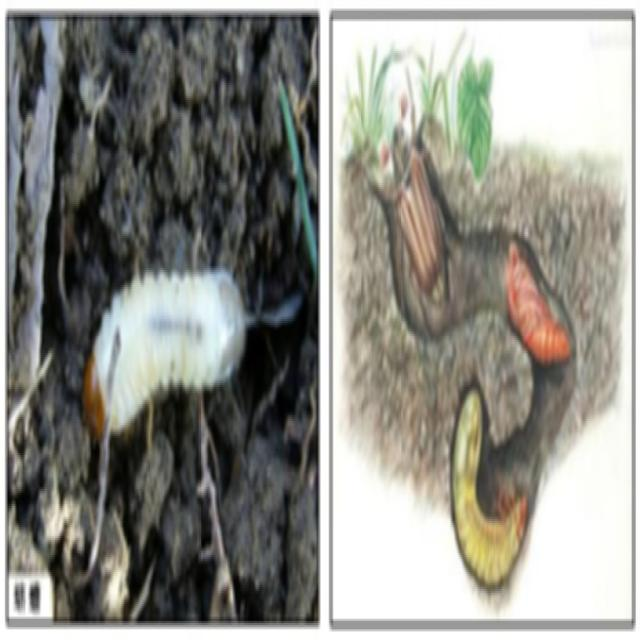grub: (87, 251, 257, 414), (448, 372, 531, 566), (388, 126, 450, 315), (505, 222, 576, 371)
